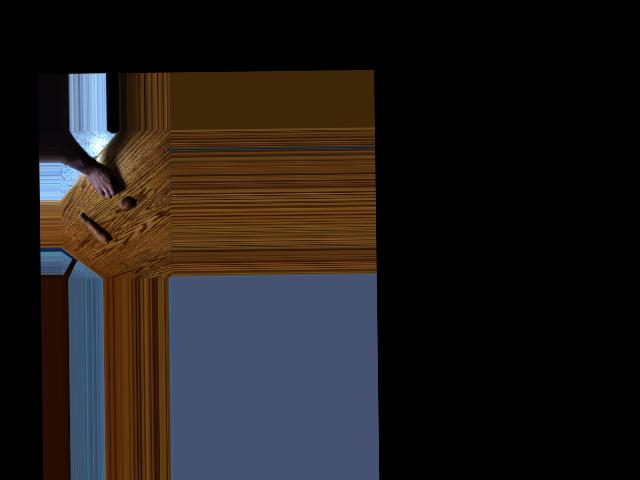onion: (103, 175, 118, 191)
